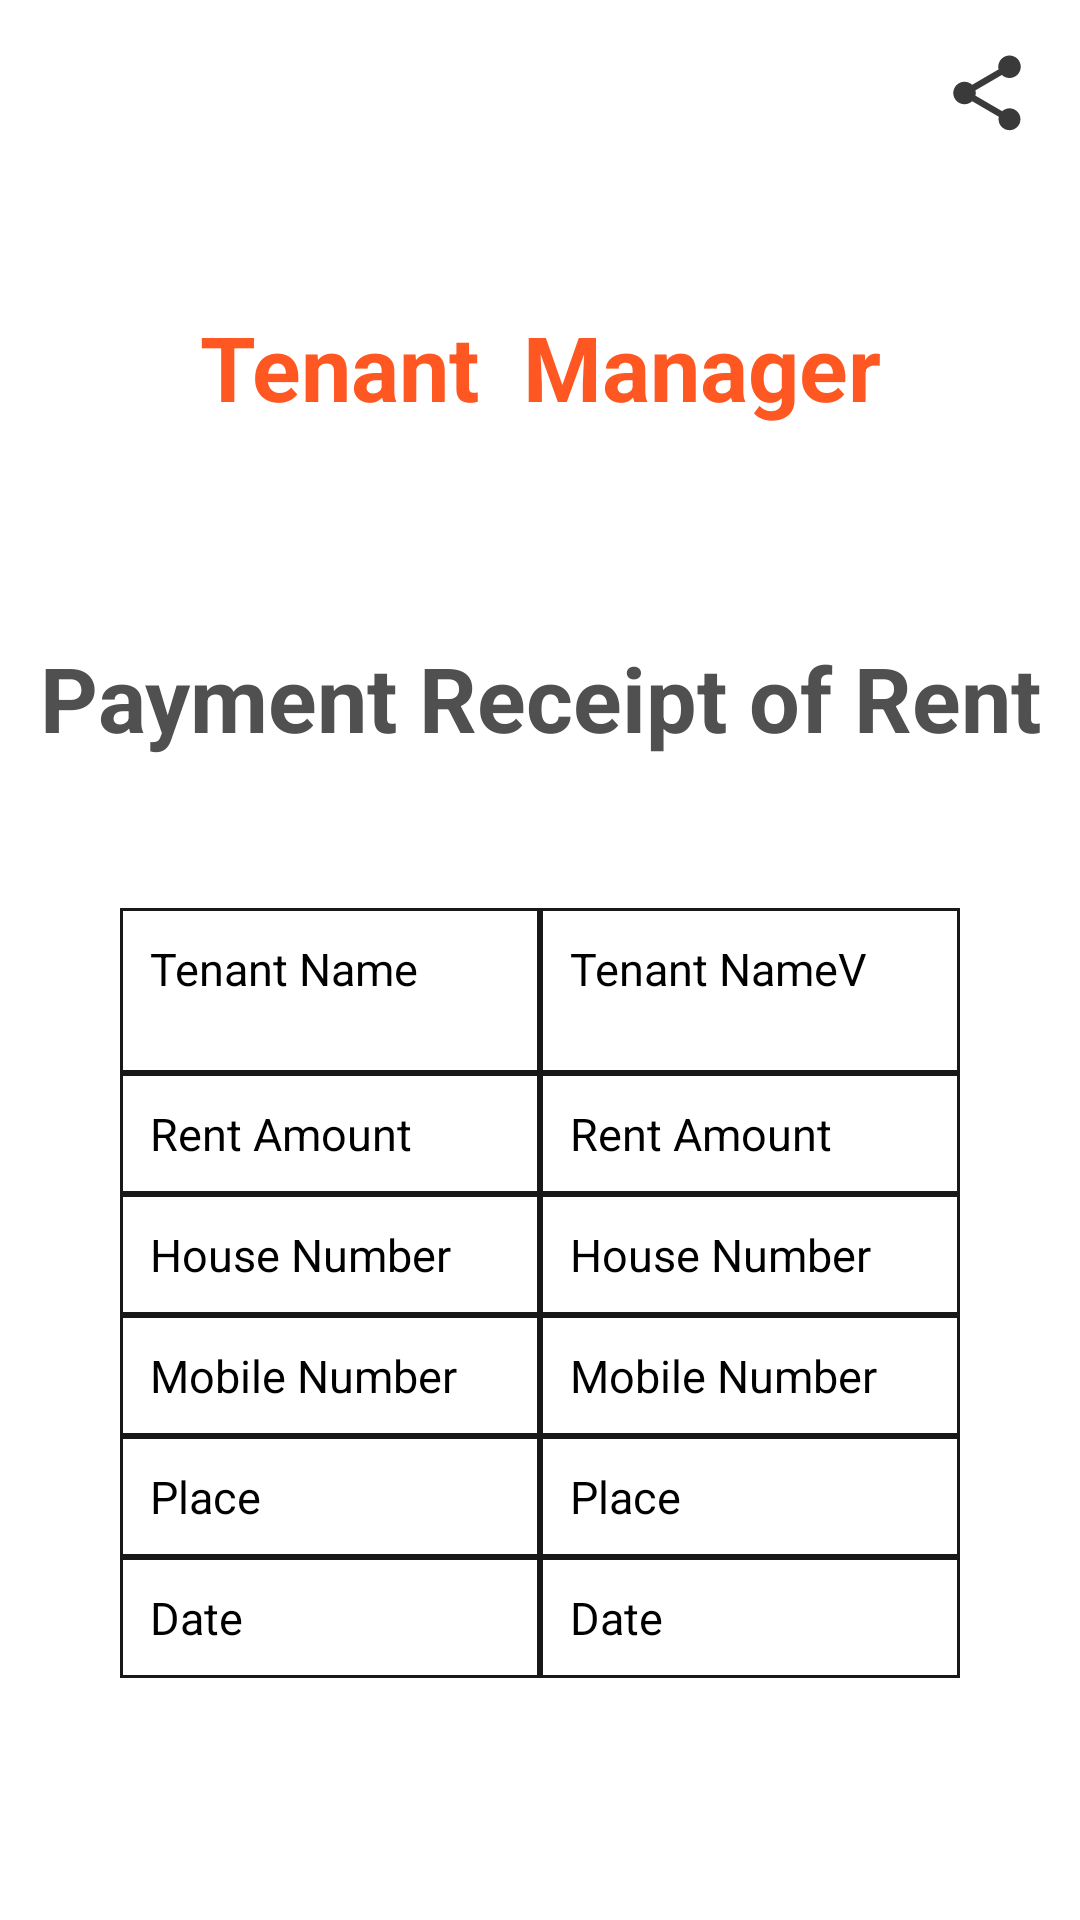

Locate icon controls on the screen. Image size 1080x1920, boxes as (x1, y1, x2, y2).
share: (953, 55, 1021, 131)
